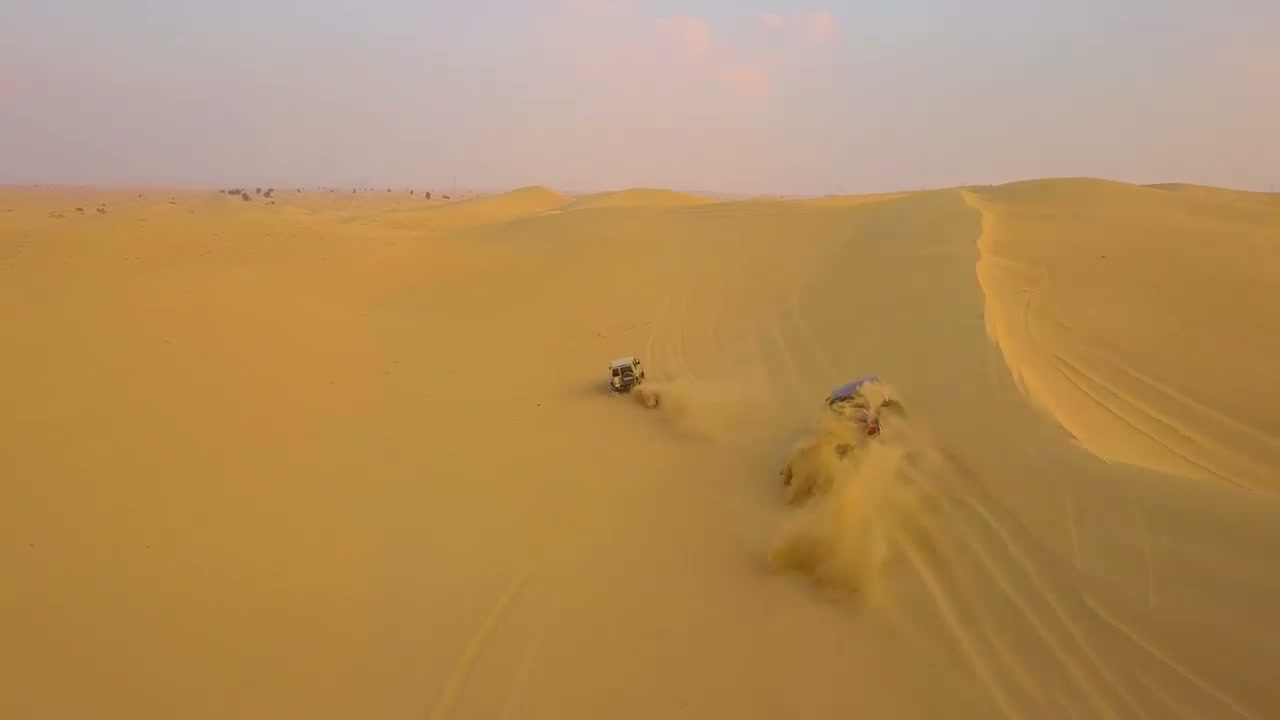vehicle_track: (871, 417, 1260, 708), (1035, 311, 1279, 504)
